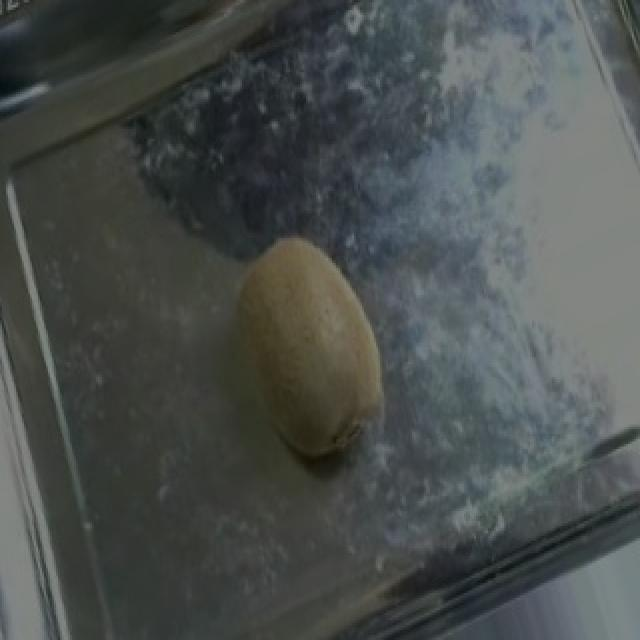Fruit: (196, 208, 418, 486)
